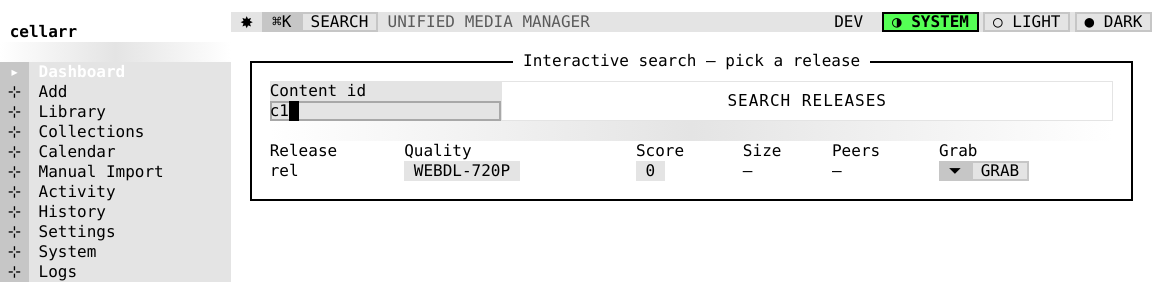
Scenario: Interactive / manual-search screen › grabs a release through the release endpoint
Click the button "⏷ Grab" at (984, 171), box [939, 161, 1029, 181]
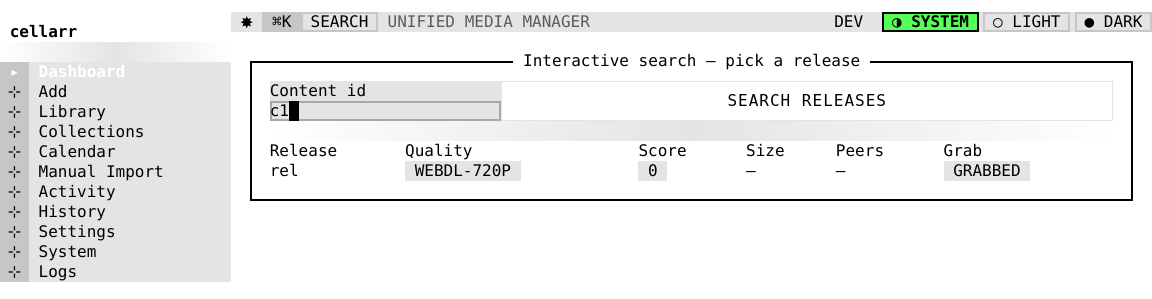
Result: the text "grabbed" is shown at [944, 161, 1030, 181]
